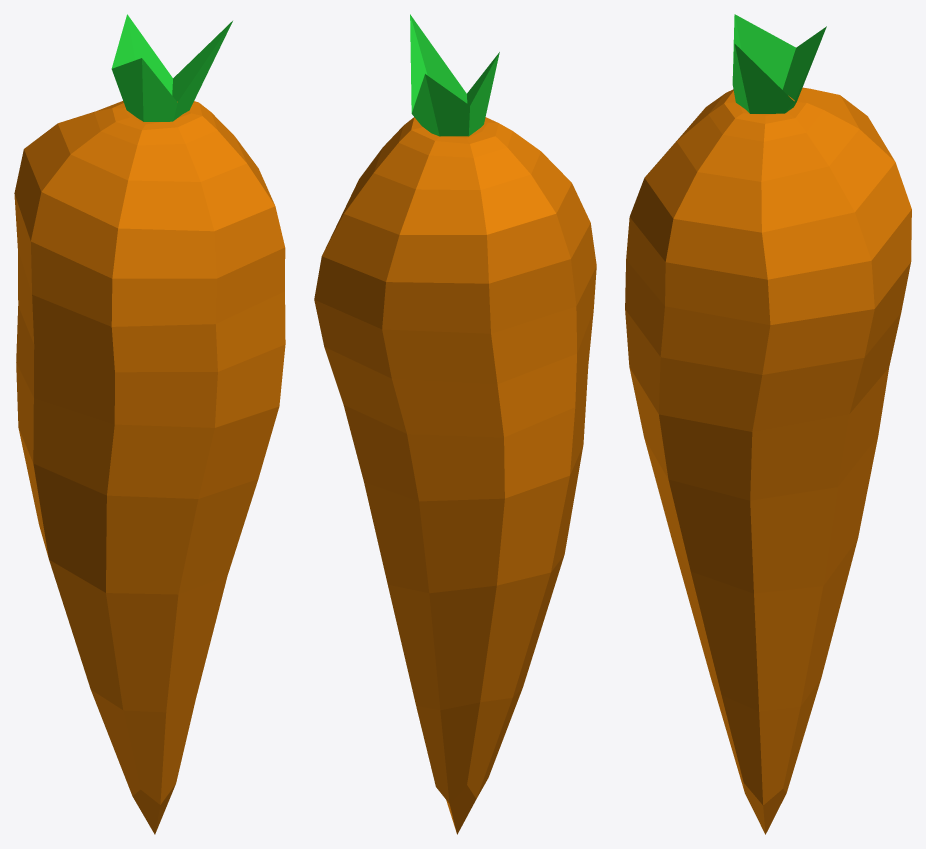
File: carrot_growth_2_var1.glb
3 renders of one model, left to right at view 1: azimuth 30°, elevation 25°; view 2: azimuth 150°, elevation 25°; view 3: azimuth 270°, elevation 25°, orthographic. The views are drawn at different scales.
Visible parts, largest first — view 1: carrotbody.001, carrotleaves.001; view 2: carrotbody.001, carrotleaves.001; view 3: carrotbody.001, carrotleaves.001.
Part boxes in pixels (x1,y1,x2,y2): carrotbody.001: [14, 101, 285, 834]; carrotleaves.001: [111, 14, 232, 121]; carrotbody.001: [314, 117, 596, 834]; carrotleaves.001: [410, 14, 499, 136]; carrotbody.001: [625, 87, 911, 834]; carrotleaves.001: [732, 14, 826, 113].
Size of the model in its own units: 0.863 by 2.77 by 0.8749.
